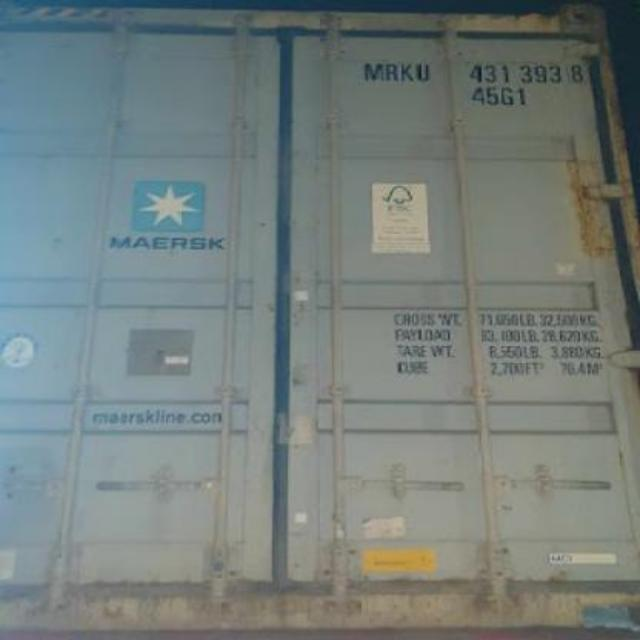1: (500, 61, 516, 85)
3: (480, 61, 500, 85), (550, 62, 566, 88), (518, 64, 536, 86)
4: (468, 61, 486, 84)
8: (570, 62, 584, 84)
9: (534, 64, 548, 85)
K: (398, 62, 416, 84)
M: (360, 59, 384, 82)
R: (382, 61, 398, 84)
U: (412, 62, 436, 84)
